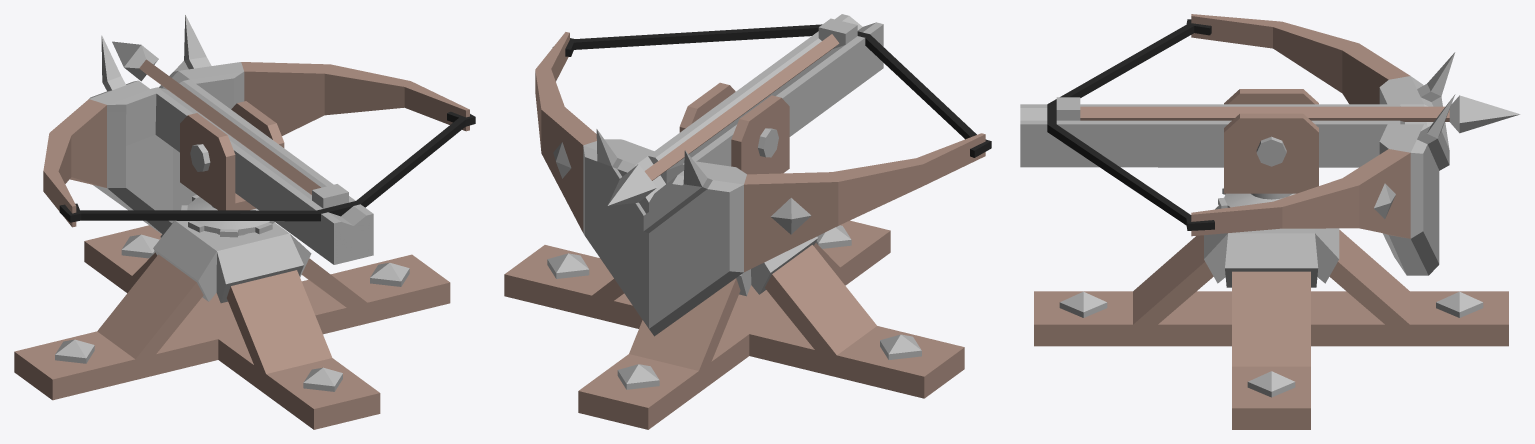
The model's file is Ballista.fbx.
The picture shows the model from 3 angles, left to right: view 1: azimuth 30°, elevation 25°; view 2: azimuth 150°, elevation 25°; view 3: azimuth 270°, elevation 25°; orthographic projection. The views are drawn at different scales.
Parts seen in each view (by area): view 1: Ballista_Base, Ballista_Head, Ballista_Ammo; view 2: Ballista_Head, Ballista_Base, Ballista_Ammo; view 3: Ballista_Head, Ballista_Base, Ballista_Ammo.
Boxes of the visible parts, x1,y1,x2,y2 form: Ballista_Base: (14, 195, 450, 429); Ballista_Head: (43, 15, 475, 264); Ballista_Ammo: (112, 41, 320, 194); Ballista_Head: (535, 14, 991, 336); Ballista_Base: (504, 220, 964, 429); Ballista_Ammo: (607, 34, 839, 205); Ballista_Head: (1020, 14, 1455, 275); Ballista_Base: (1034, 188, 1508, 429); Ballista_Ammo: (1080, 95, 1519, 133).
Size of the model in its own units: 0.7645 by 0.7904 by 0.4478.
